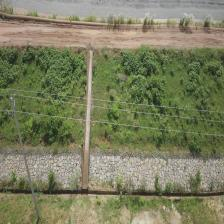rock_toe: (89, 150, 224, 193), (26, 150, 82, 189), (0, 148, 28, 181)
slope_drain: (82, 49, 93, 189)
